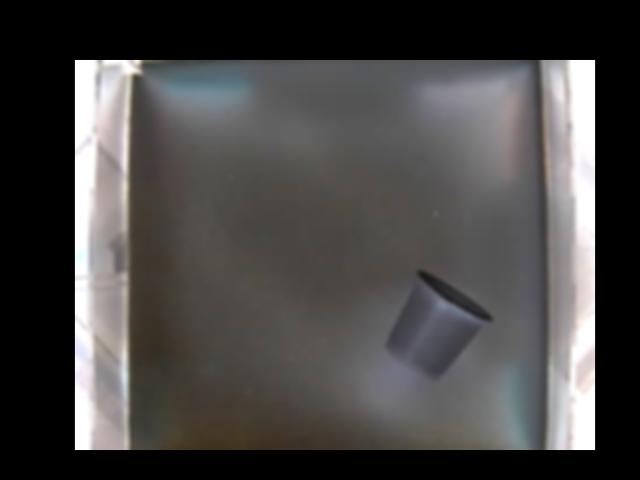Cup: (382, 269, 492, 380)
